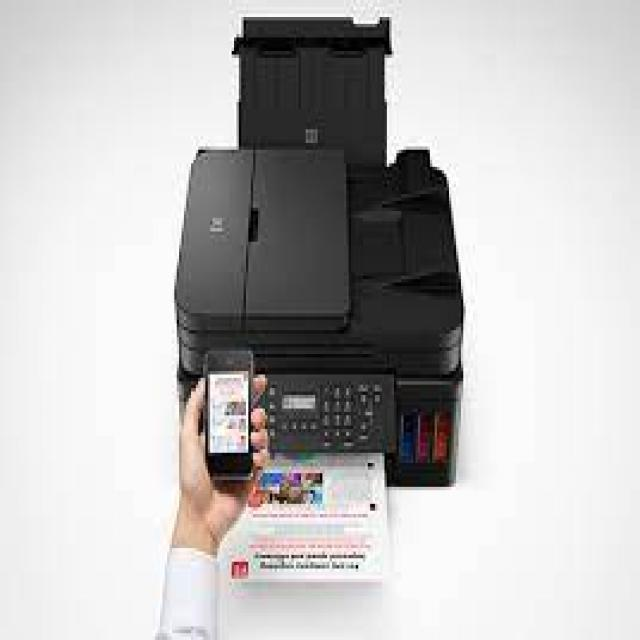printer: (103, 0, 504, 599)
